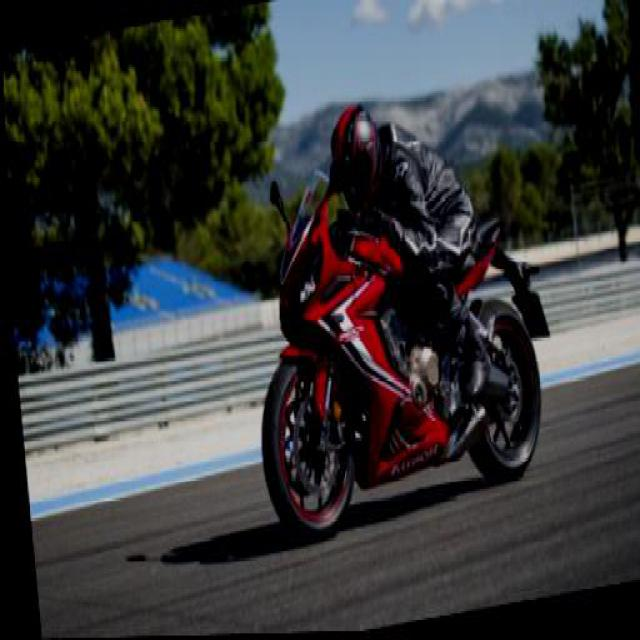CBR650R: (232, 134, 547, 556)
